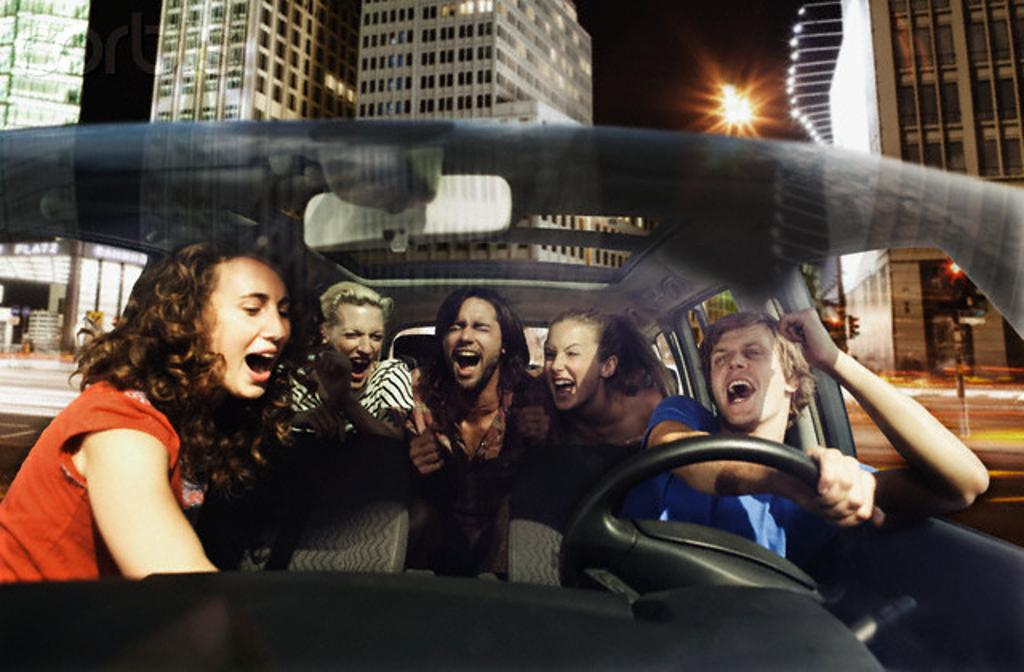face: (206, 268, 290, 398), (711, 325, 785, 423), (545, 320, 602, 409), (443, 302, 501, 386), (333, 302, 381, 388)
